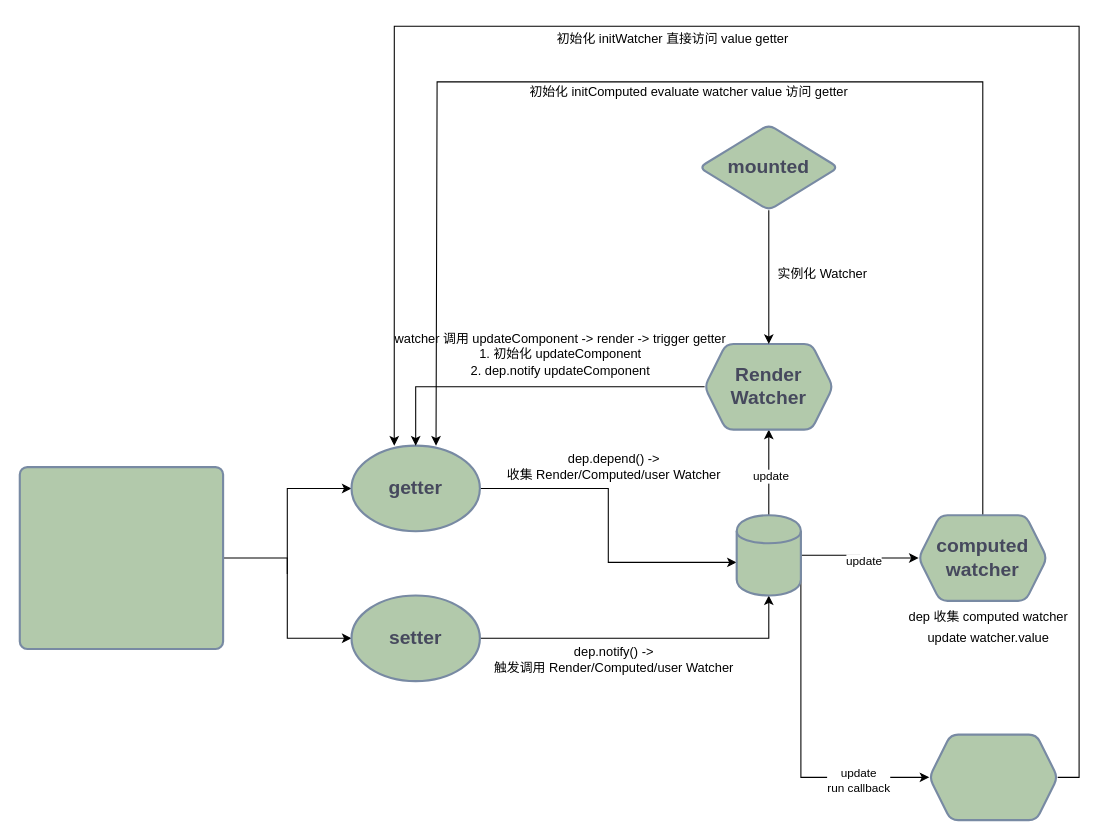
Image size: 1106x840. Some labels were removed from this diagram. The shapes that lost their labels are listed below. From the top down, each one's centre as x and y in pixels, then its label:
the point at 121,557: defineReactive
the point at 768,555: Dep
the point at 993,777: user watcher
